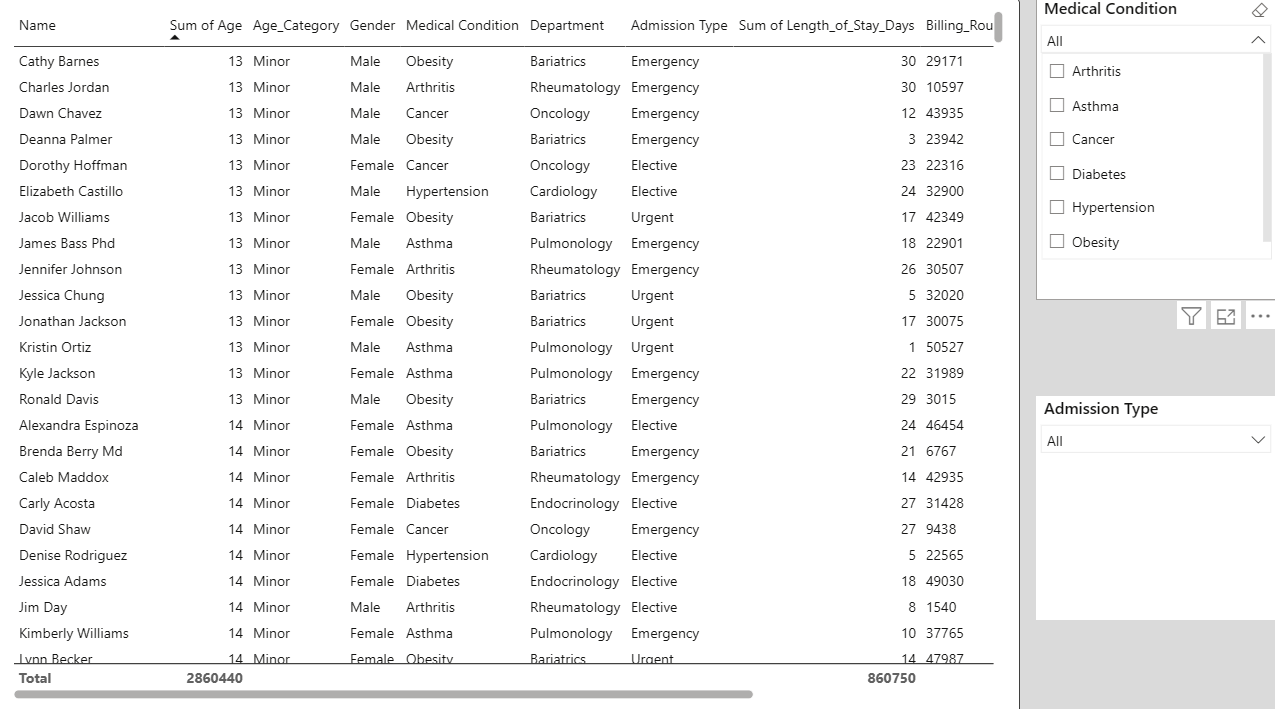

The page's visual inventory and layout, read from the dashboard file:
{"tool":"powerbi","page":{"name":"Patient Detail","canvas":[1280,720],"ordinal":1},"visuals":[{"type":"tableEx","fields":{"Values":["healthcare_dataset.Name","Sum(healthcare_dataset.Age)","healthcare_dataset.Age_Category","healthcare_dataset.Gender","healthcare_dataset.Medical Condition","healthcare_dataset.Department","healthcare_dataset.Admission Type","Sum(healthcare_dataset.Length_of_Stay_Days)","healthcare_dataset.Billing_Rounded","healthcare_dataset.Insurance Provider","healthcare_dataset.Test Results","healthcare_dataset.Risk_Flag"]},"box":[0,0,1024,720],"z":0},{"type":"slicer","fields":{"Values":["healthcare_dataset.Medical Condition"]},"box":[1040,0,240,304],"z":1},{"type":"slicer","fields":{"Values":["healthcare_dataset.Admission Type"]},"box":[1040,400,240,224],"z":2}]}

Visuals, with their boxes on the page's 1280x720 design canvas (x1, y1, x2, y2). These are canvas units, not pixel positions in the 1275x709 screenshot, which may show the page scaled, cropped or inside an application window:
tableEx - healthcare_dataset.Name x Sum(healthcare_dataset.Age): <region>0, 0, 1024, 720</region>
slicer - healthcare_dataset.Medical Condition: <region>1040, 0, 1280, 304</region>
slicer - healthcare_dataset.Admission Type: <region>1040, 400, 1280, 624</region>
